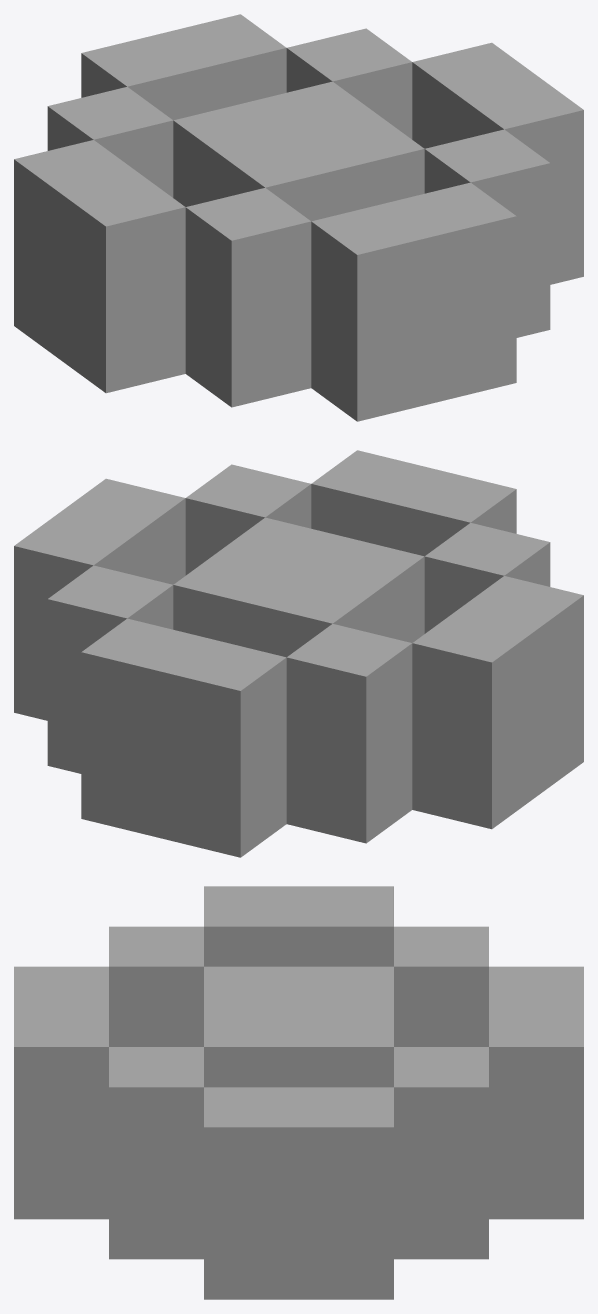
Rendered from Coins_1_Silver.glb.
3 views of the same model, one above another, from view 1: azimuth 30°, elevation 25°; view 2: azimuth 150°, elevation 25°; view 3: azimuth 270°, elevation 25° (orthographic). The views are drawn at different scales.
Visible parts, largest first — view 1: Coins_1_Silver; view 2: Coins_1_Silver; view 3: Coins_1_Silver.
Boxes of the visible parts, x1=… form: Coins_1_Silver: x1=14, y1=14, x2=583, y2=421; Coins_1_Silver: x1=14, y1=450, x2=583, y2=857; Coins_1_Silver: x1=14, y1=886, x2=583, y2=1299.
Size of the model in its own units: 0.6 by 0.2 by 0.6.
Materials: 1 (1 with a texture image).
